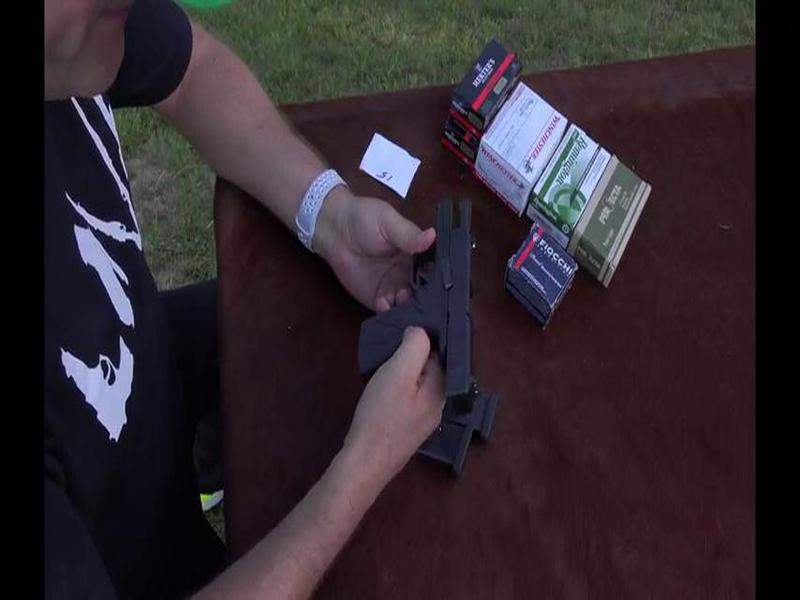Pistola: (337, 174, 482, 414)
